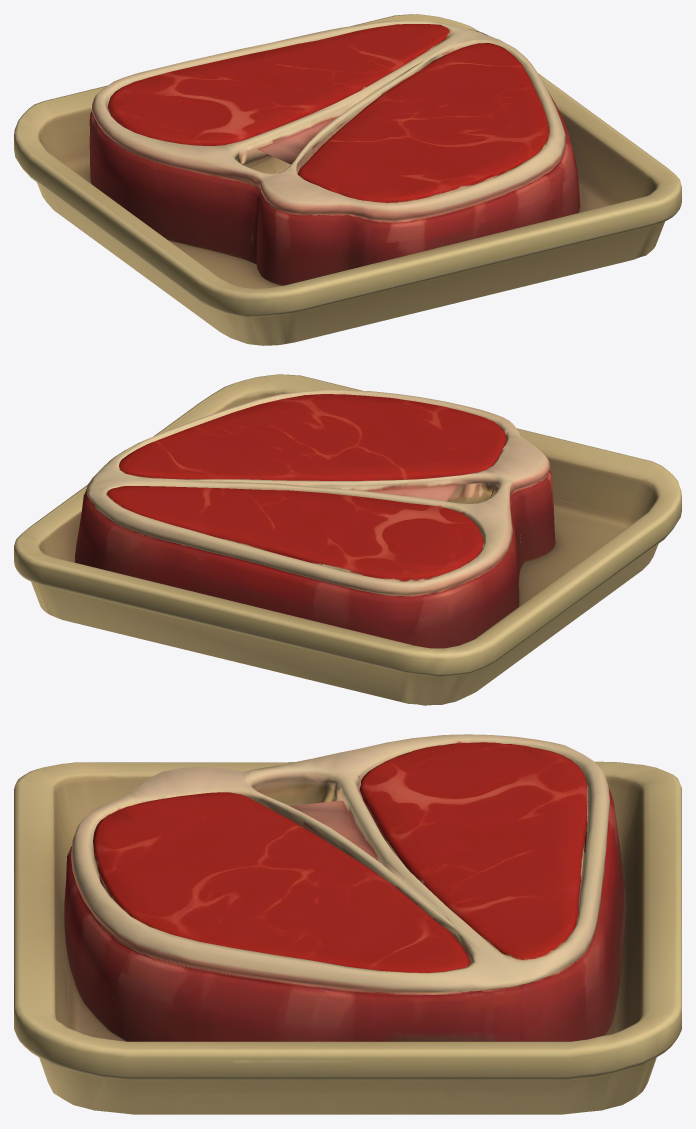
The model's file is steak.glb.
3 views of the same model, one above another, from view 1: azimuth 30°, elevation 25°; view 2: azimuth 150°, elevation 25°; view 3: azimuth 270°, elevation 25° (orthographic). The views are drawn at different scales.
Parts seen in each view (by area): view 1: Steak; view 2: Steak; view 3: Steak.
Part boxes in pixels (left/top/right/bottom): Steak: left=14, top=14, right=681, bottom=345; Steak: left=14, top=374, right=681, bottom=705; Steak: left=14, top=734, right=681, bottom=1114.
Size of the model in its own units: 0.998 by 0.209 by 0.959.
Materials: 1 (1 with a texture image).
